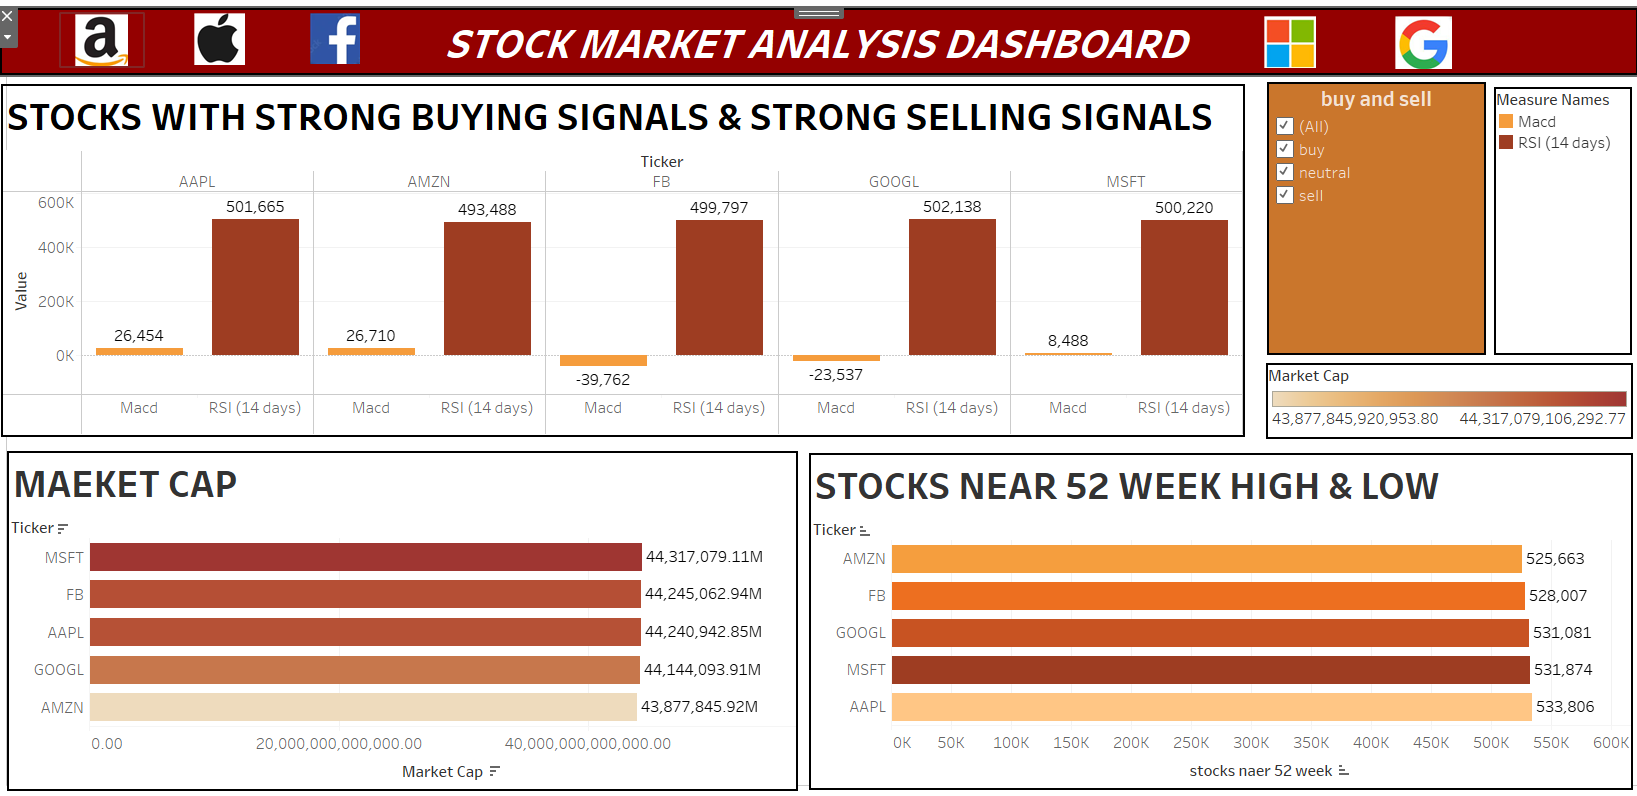

What the dashboard file says about the page in this screenshot:
{"tool":"tableau","page":{"name":"Dashboard 2","canvas":[1000,1000],"units":"permille","ordinal":1},"visuals":[{"type":"image","box":[4.8,10,990.3,980]},{"type":"text","box":[3.6,13.7,988.5,83.7]},{"type":"image","param":"Image/apple ss.png","box":[115.1,20,42.5,64.9]},{"type":"image","param":"Image/fb.png","box":[184,20,44.3,63.7]},{"type":"image","param":"Image/amzn ss.png","box":[40.6,21.2,49.2,64.9]},{"type":"image","param":"Image/msft.png","box":[761.9,23.7,41.2,64.9]},{"type":"image","param":"Image/google ss.png","box":[840,23.7,46.1,66.2]},{"type":"filter","title":"buy sell","param":"[federated.1jwewxj175lvg11h34jto1hcf2xo].[none:Calculation_810085041724166145:nk","box":[768.3,106.1,132.2,340.8]},{"type":"worksheet","title":"buy sell","mark":"Bar","cols":["Ticker"],"box":[4.2,108.6,750.8,440.7]},{"type":"legend","title":"buy sell","param":"[federated.1jwewxj175lvg11h34jto1hcf2xo].[:Measure Names]","box":[905.2,112.4,83.3,334.6]},{"type":"legend","title":"market cap","param":"[federated.1jwewxj175lvg11h34jto1hcf2xo].[sum:Market Cap:qk]","box":[767.6,456.9,221.5,94.9]},{"type":"worksheet","title":"market cap","mark":"Bar","rows":["Ticker"],"cols":["Market Cap"],"box":[8,566.8,477.5,424.5]},{"type":"worksheet","title":"stocks near 52 week","mark":"Bar","rows":["Ticker"],"cols":["Calculation_810085041722888192"],"box":[491.9,569.3,497.3,420.7]}]}

Visuals, with their boxes on the dashboard's canvas, which has no fixed pixel size, in thousandths of its width and height (x1, y1, x2, y2). These are canvas units, not pixel positions in the 1637x796 screenshot, which may show the page scaled, cropped or inside an application window:
image: 5,10,995,990
text: 4,14,992,97
image: 115,20,158,85
image: 184,20,228,84
image: 41,21,90,86
image: 762,24,803,89
image: 840,24,886,90
"buy sell" filter: 768,106,900,447
"buy sell" worksheet (Bar marks): 4,109,755,549
"buy sell" legend: 905,112,988,447
"market cap" legend: 768,457,989,552
"market cap" worksheet (Bar marks): 8,567,486,991
"stocks near 52 week" worksheet (Bar marks): 492,569,989,990
